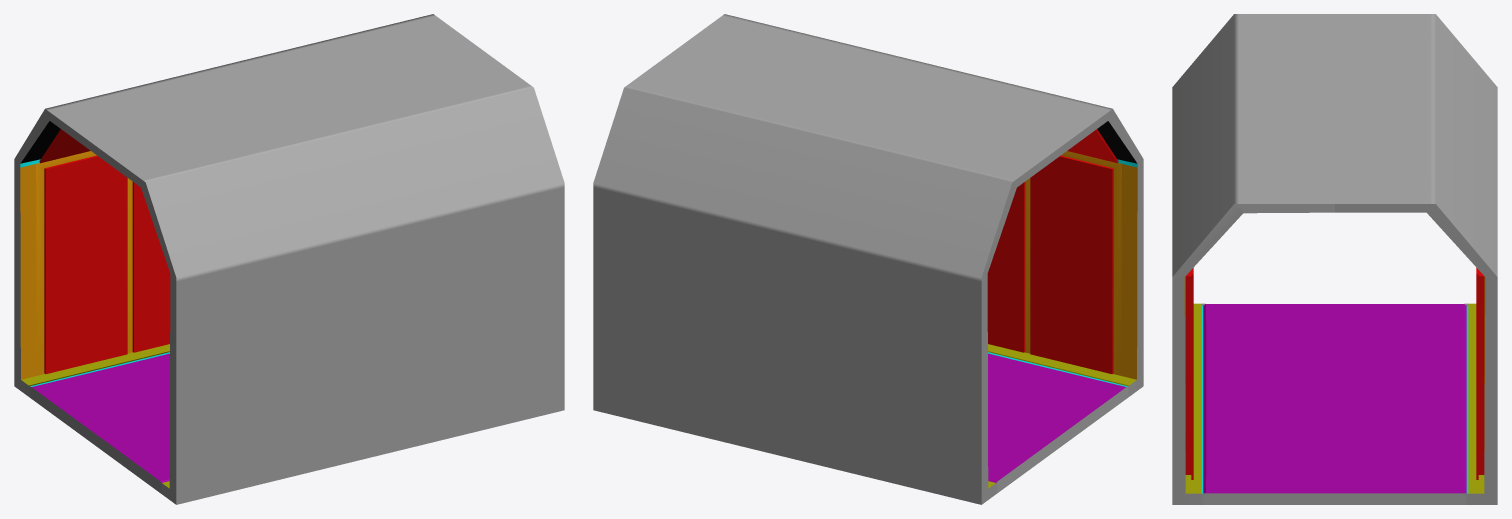
File: corridor - Copy.fbx
3 renders of one model, left to right at view 1: azimuth 30°, elevation 25°; view 2: azimuth 150°, elevation 25°; view 3: azimuth 270°, elevation 25°, orthographic.
Visible parts, largest first — view 1: pCube1; view 2: pCube1; view 3: pCube1.
Part boxes in pixels (x1,y1,x2,y2): pCube1: [14, 14, 564, 504]; pCube1: [593, 14, 1143, 504]; pCube1: [1172, 14, 1497, 504].
Bounding box in the file's own units: 49.32 × 36.32 × 35.57.
